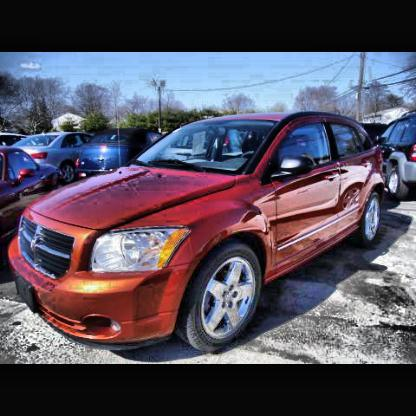Dodge Caliber Wagon 2007: (9, 115, 387, 352)
